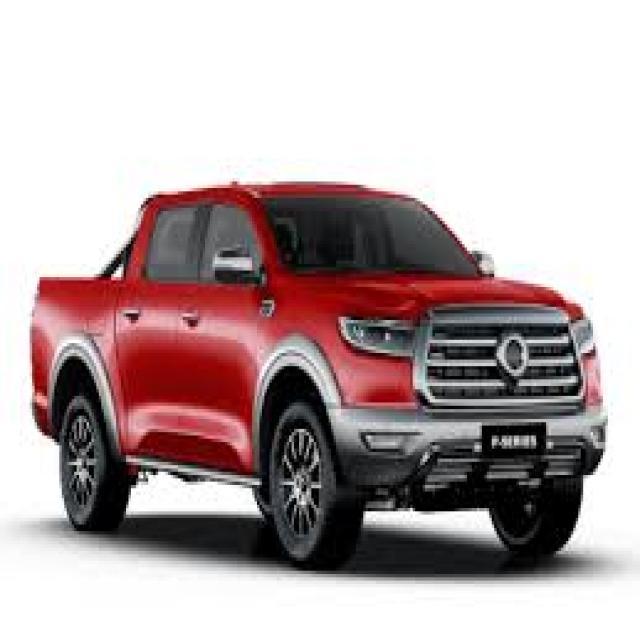Pickup Trucks: (28, 181, 606, 571)
